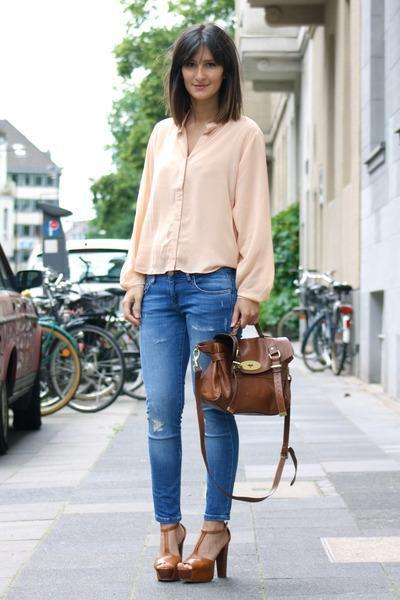bag: (190, 331, 297, 501)
pants: (122, 266, 253, 523)
shirt: (108, 117, 275, 299)
shoe: (155, 520, 230, 583)
